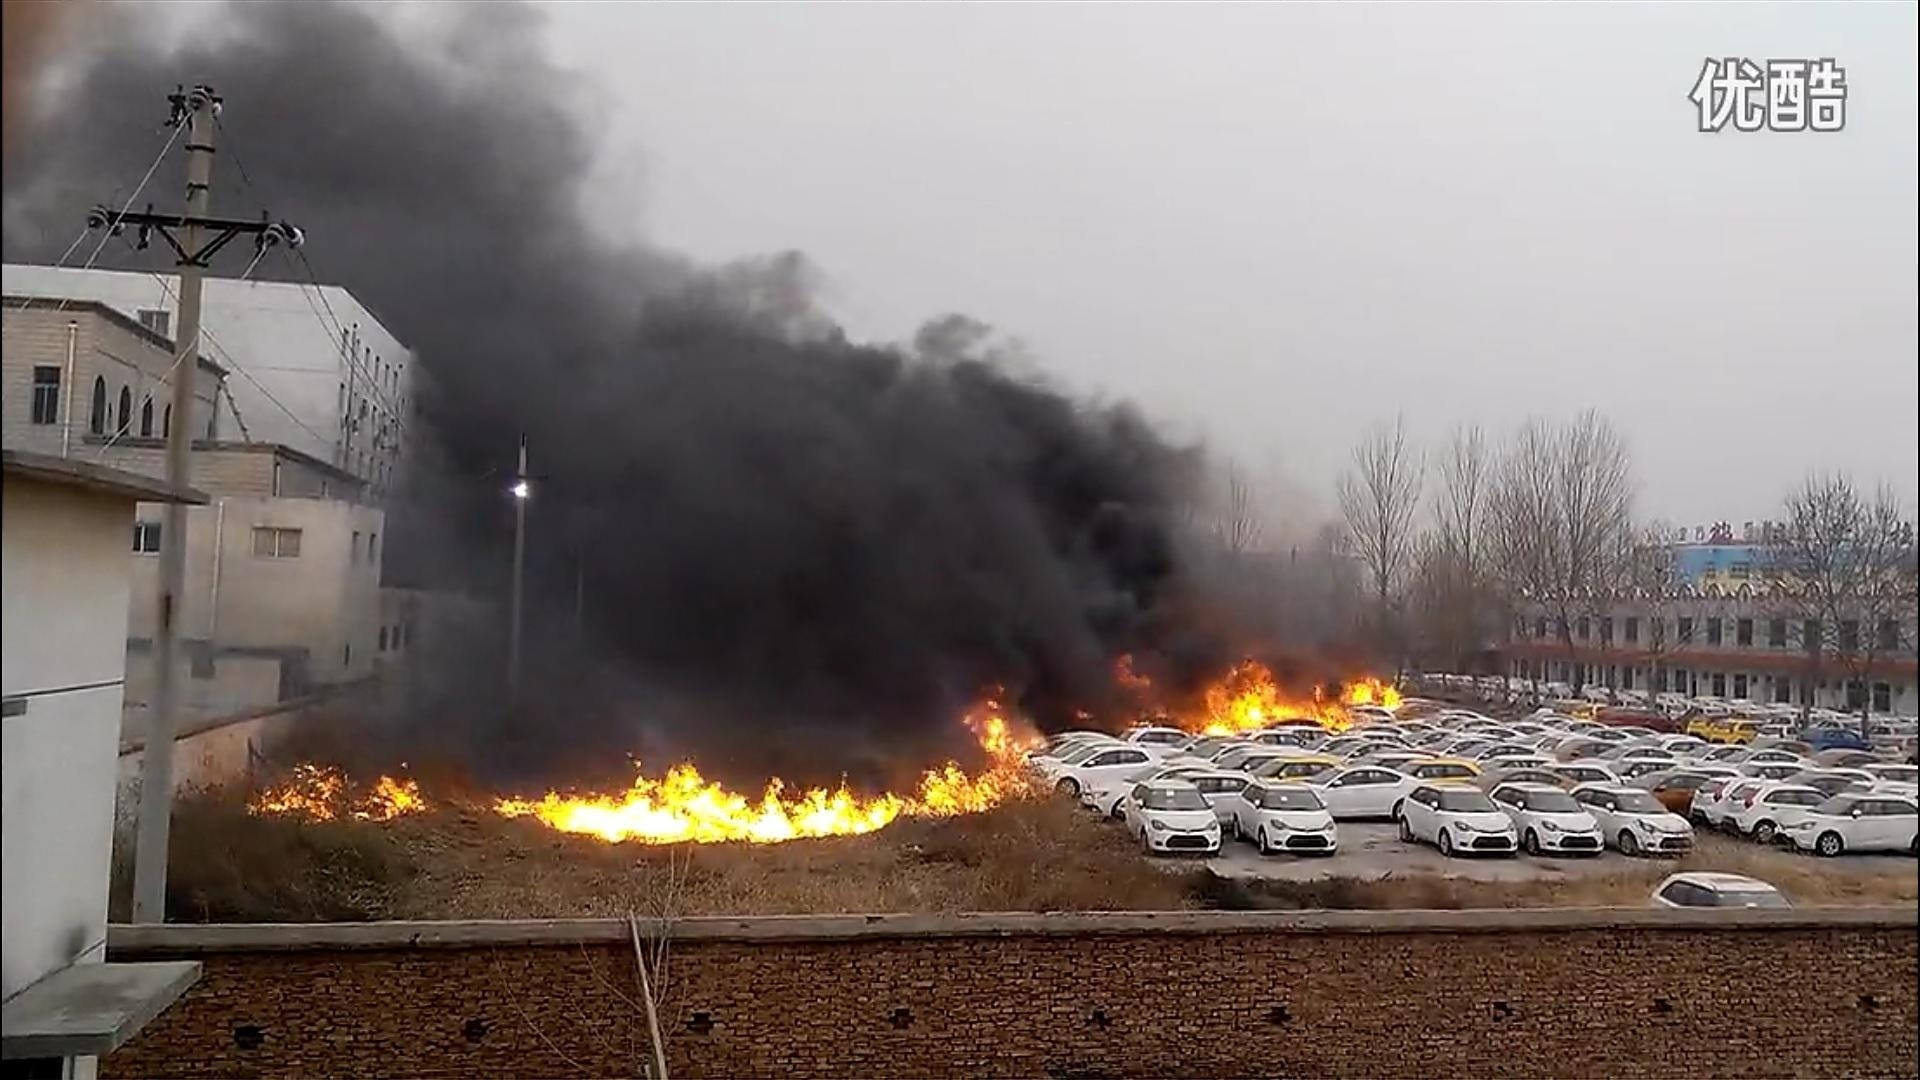fire: (495, 702, 1055, 844), (1116, 650, 1415, 740), (249, 757, 430, 825)
